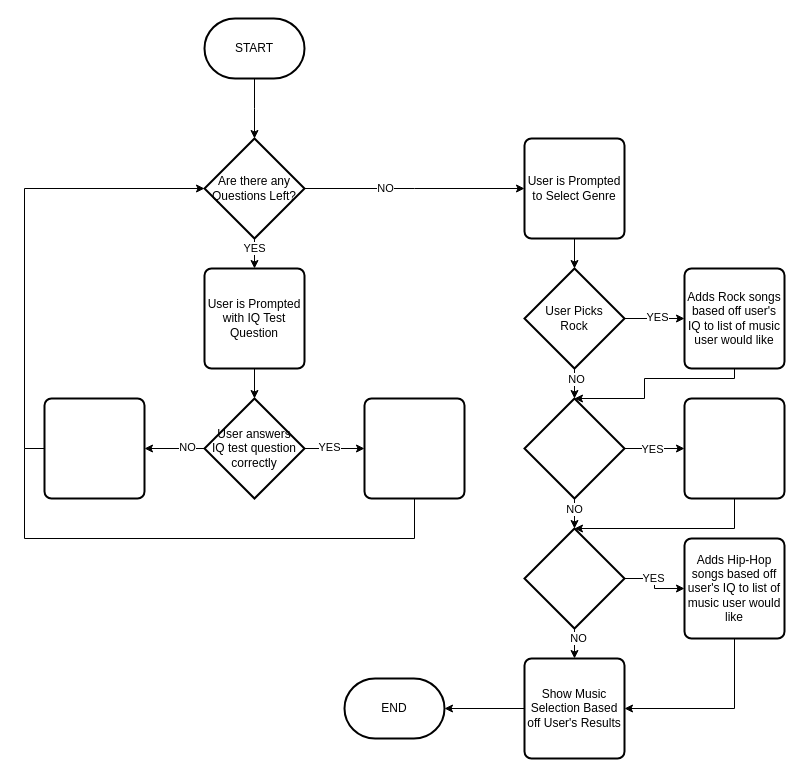
Some shapes in this 803 by 776 pixel diagram are drawn without their labels. Here are the shapes that lost their labels. From the top down, the centre of each, then its label:
At (x=94, y=448): "Variable: IQ goes down".
At (x=414, y=448): "Variable: IQ goes up".
At (x=574, y=448): "User Picks Pop".
At (x=734, y=448): "Adds Pop songs based off user's IQ to list of music user would like".
At (x=574, y=578): "User Picks Hip-Hop".
